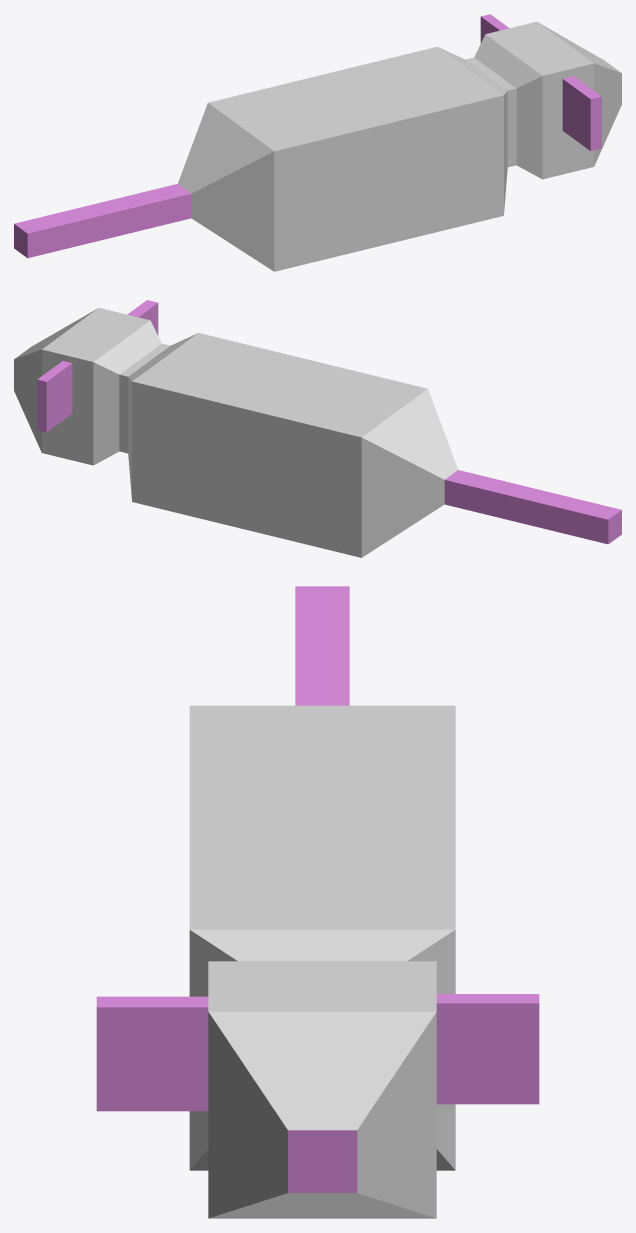
Rendered from Mouse 1.fbx.
3 renders of one model, top to bottom at view 1: azimuth 30°, elevation 25°; view 2: azimuth 150°, elevation 25°; view 3: azimuth 270°, elevation 25°, orthographic. The views are drawn at different scales.
Parts seen in each view (by area): view 1: Cube; view 2: Cube; view 3: Cube.
Boxes of the visible parts, left/top/right/bottom form: Cube: left=14, top=14, right=621, bottom=271; Cube: left=14, top=300, right=621, bottom=557; Cube: left=96, top=586, right=539, bottom=1218.
Bounding box in the file's own units: 1029 × 209 × 333.
